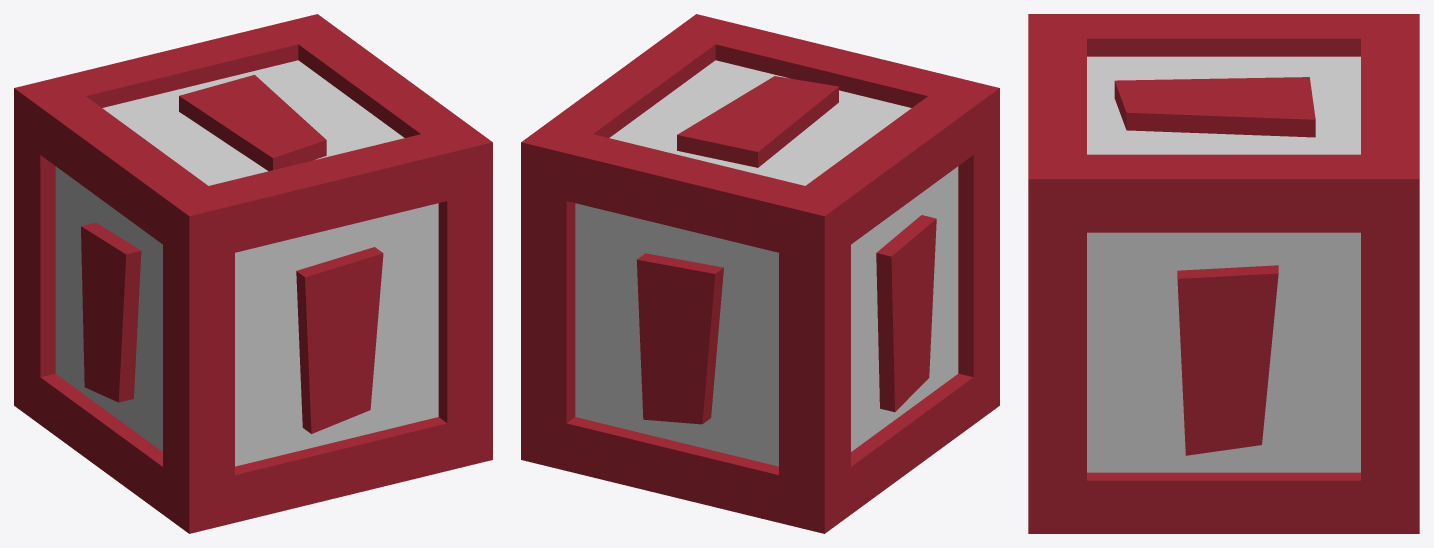
Rendered from Block_I.fbx.
The picture shows the model from 3 angles, left to right: view 1: azimuth 30°, elevation 25°; view 2: azimuth 150°, elevation 25°; view 3: azimuth 270°, elevation 25°; orthographic projection. The views are drawn at different scales.
Visible parts, largest first — view 1: Block_I; view 2: Block_I; view 3: Block_I.
Boxes of the visible parts, x1,y1,x2,y2 form: Block_I: (14,14,492,533); Block_I: (521,14,999,533); Block_I: (1028,14,1419,533).
Size of the model in its own units: 10 by 10 by 10.
